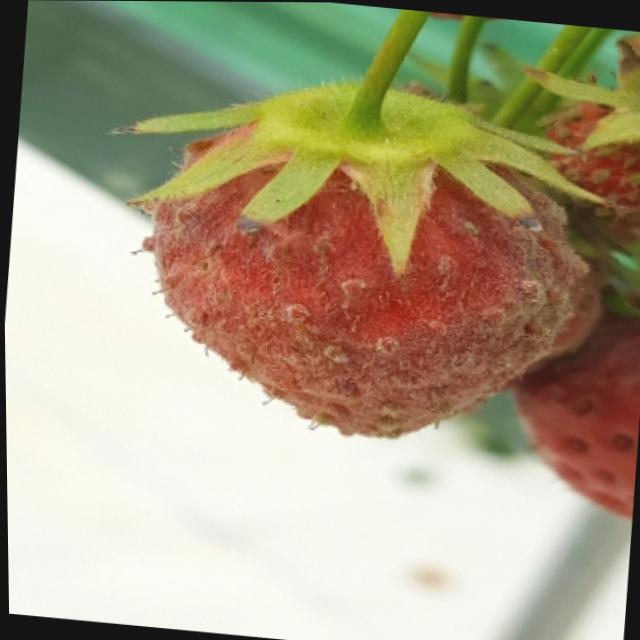Powdery Mildew Fruit: (105, 78, 602, 439), (546, 80, 640, 247)
